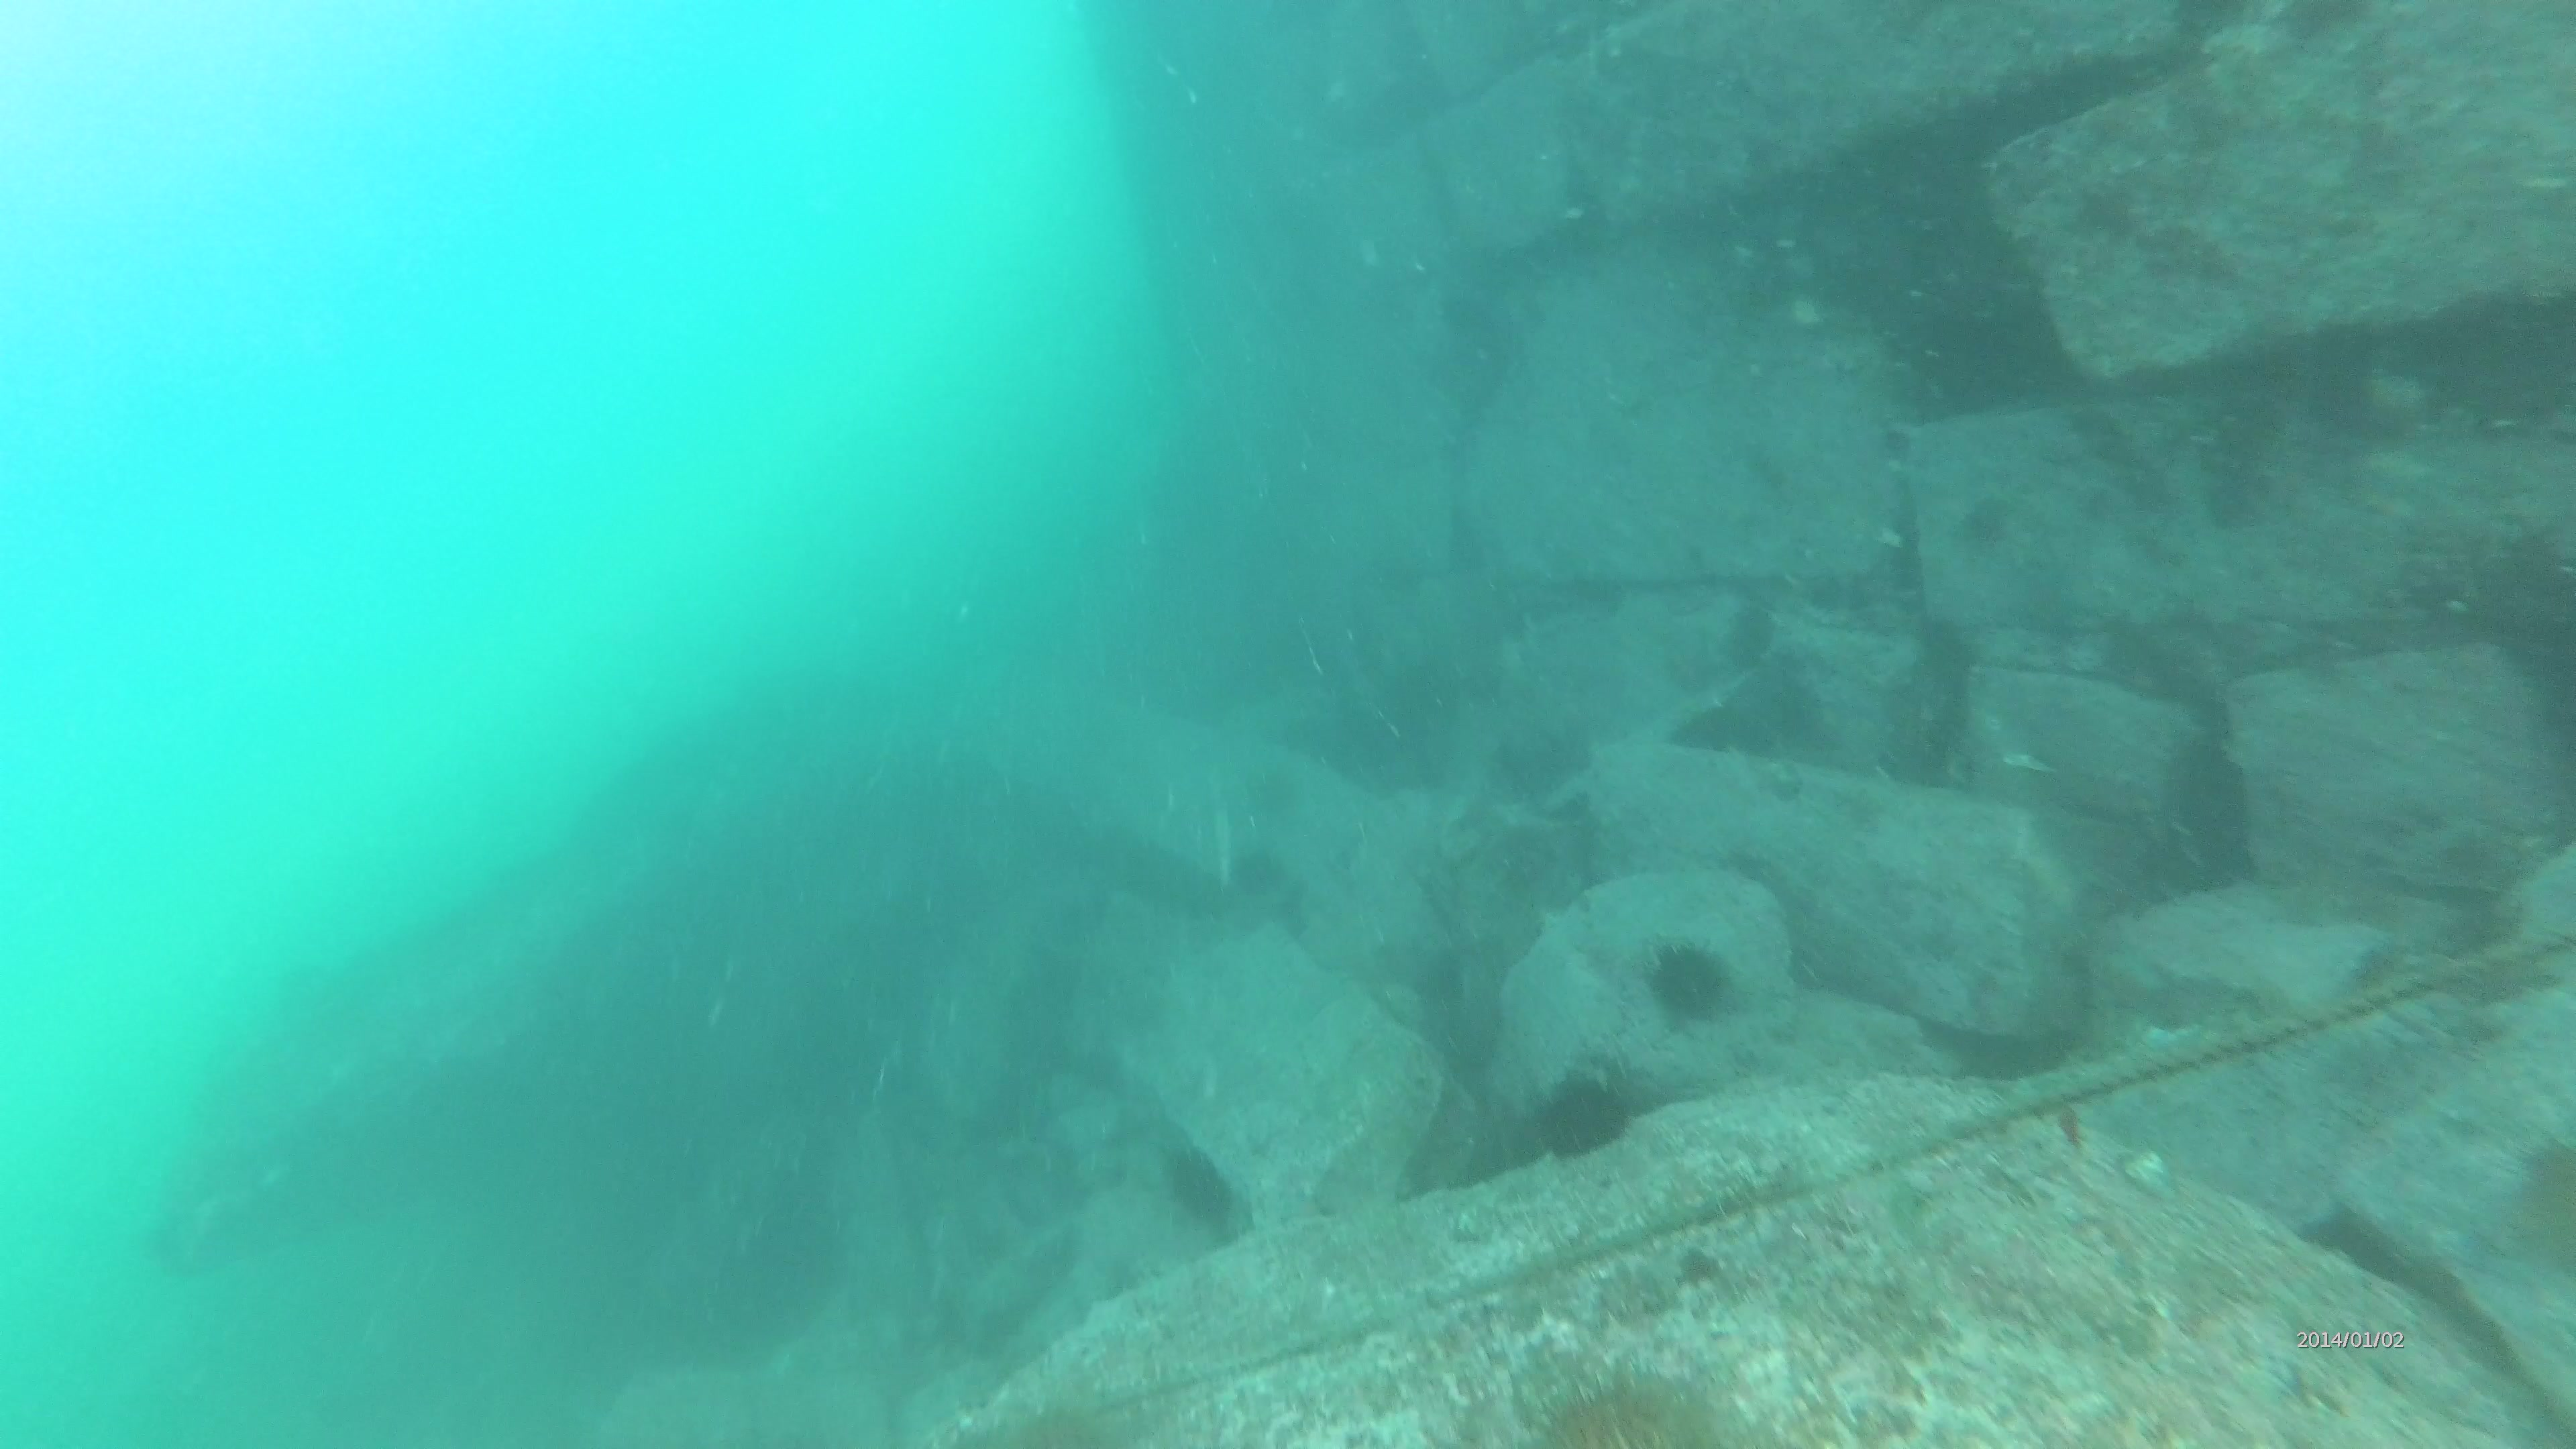echinus: (1532, 1077, 1631, 1166), (1654, 945, 1737, 1024)
